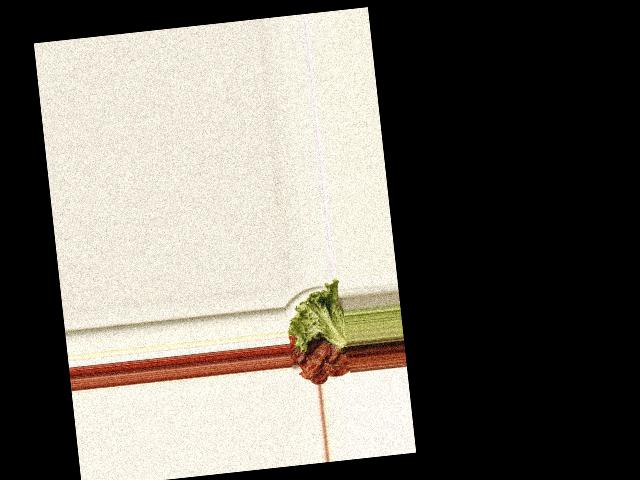lettuce: (285, 282, 348, 353)
